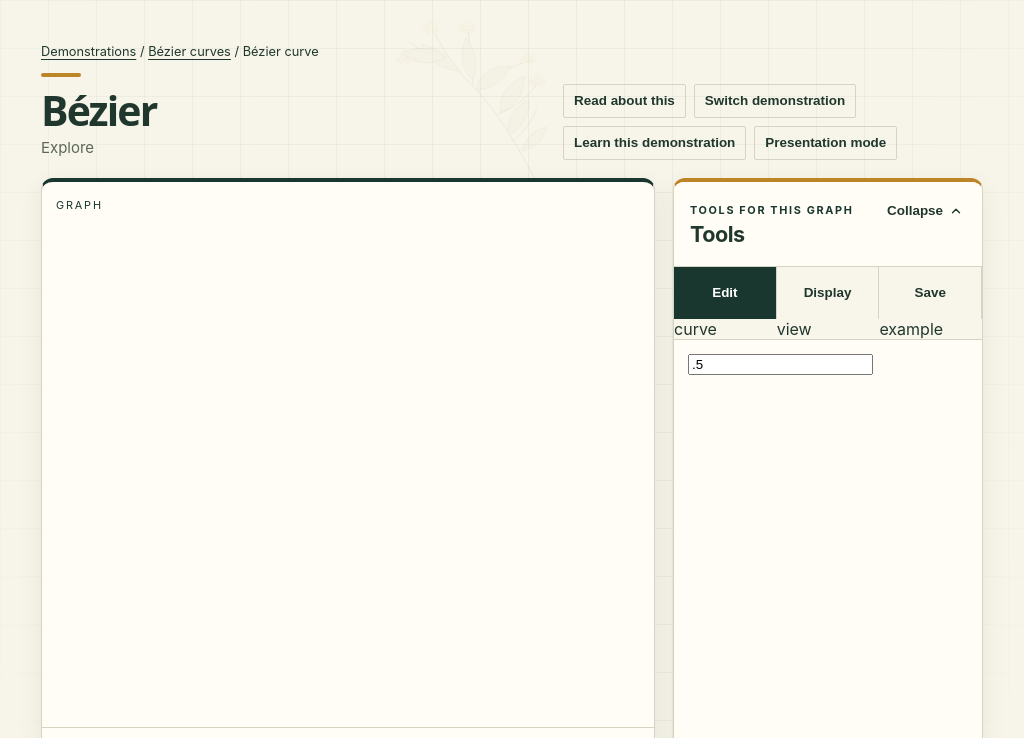
Test case: minimized lesson exposes one focused reopen tab over the graph
Step 1. Click the button "Learn this demonstration" → (655, 143), box top-left (563, 126), bottom-right (746, 160)
(page scrolled)
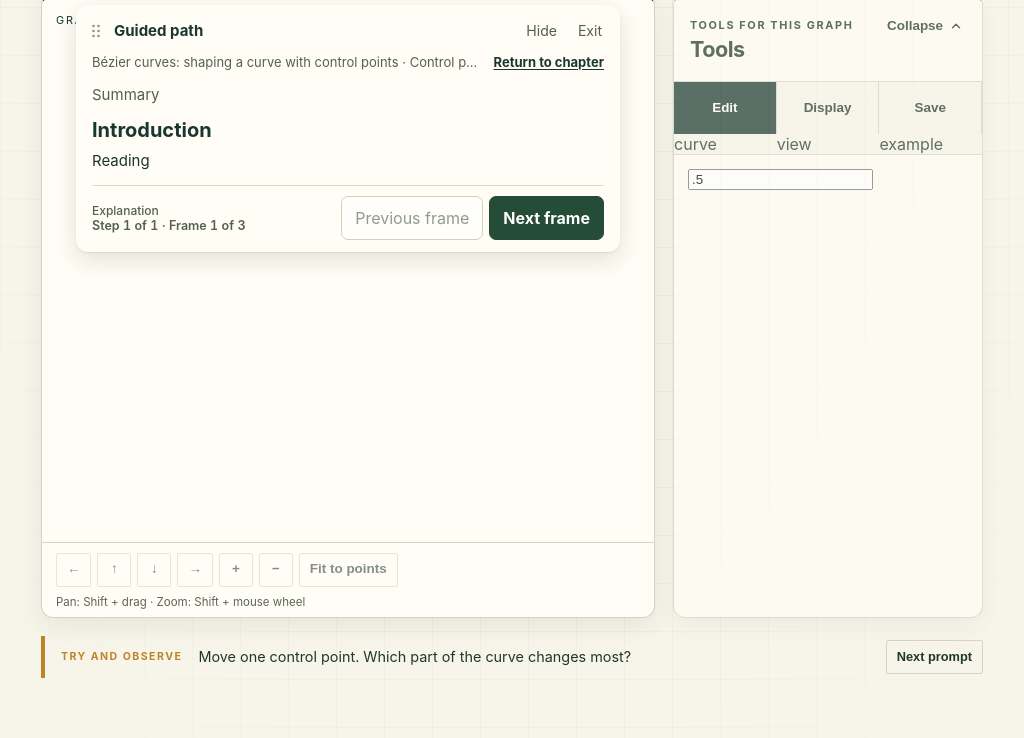
Expected: the heading "Introduction" is shown, top-left (92, 118), bottom-right (212, 142)
Step 2. Click the button "Next frame" → (547, 218), box top-left (489, 196), bottom-right (604, 240)
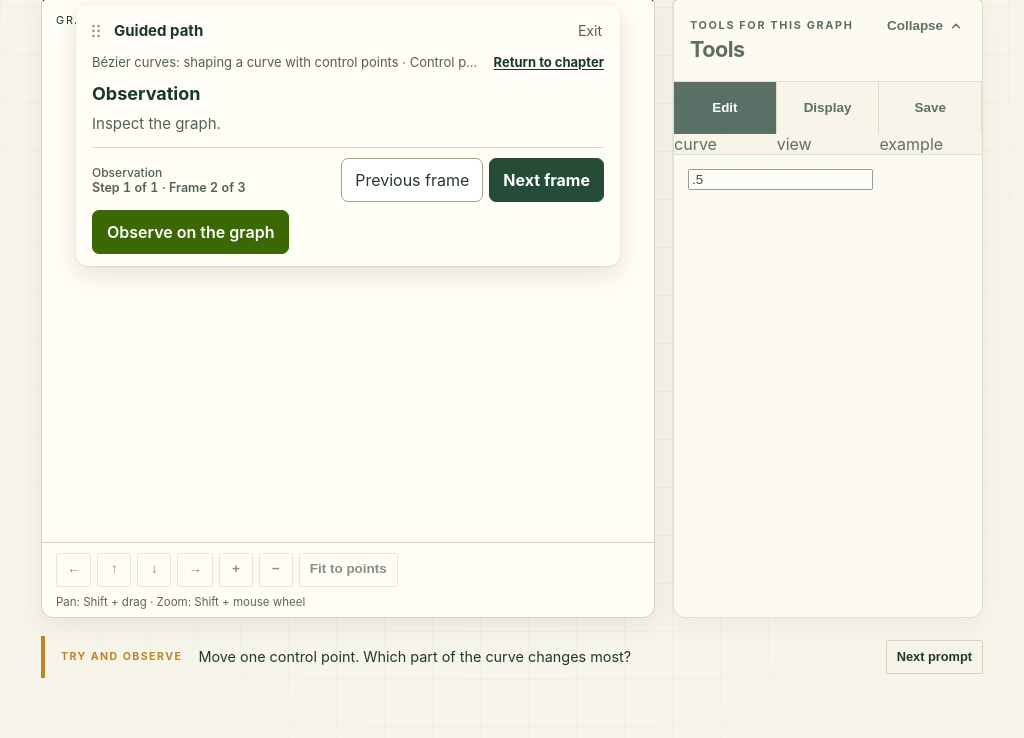
Step 3. Click the button "Observe on the graph" → (191, 232), box top-left (92, 210), bottom-right (289, 254)
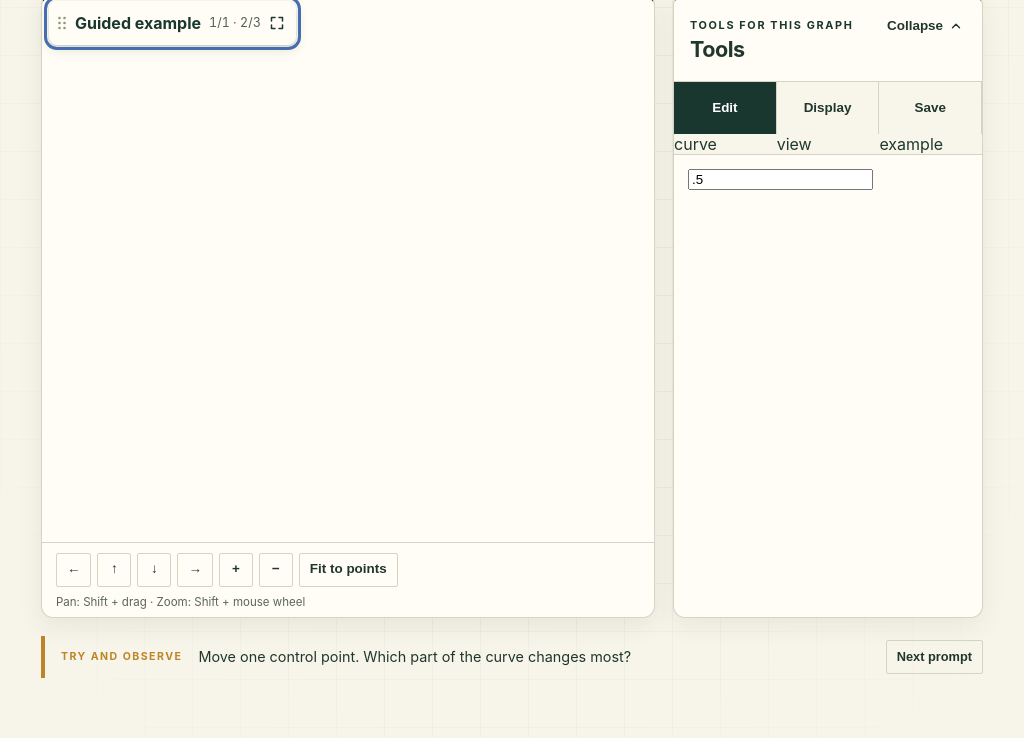
Expected: the element with class "guided-lesson" is gone
Step 4. Click the button "Guided example 1/1 · 2/3" → (172, 23), box top-left (49, 1), bottom-right (296, 45)
(page scrolled)
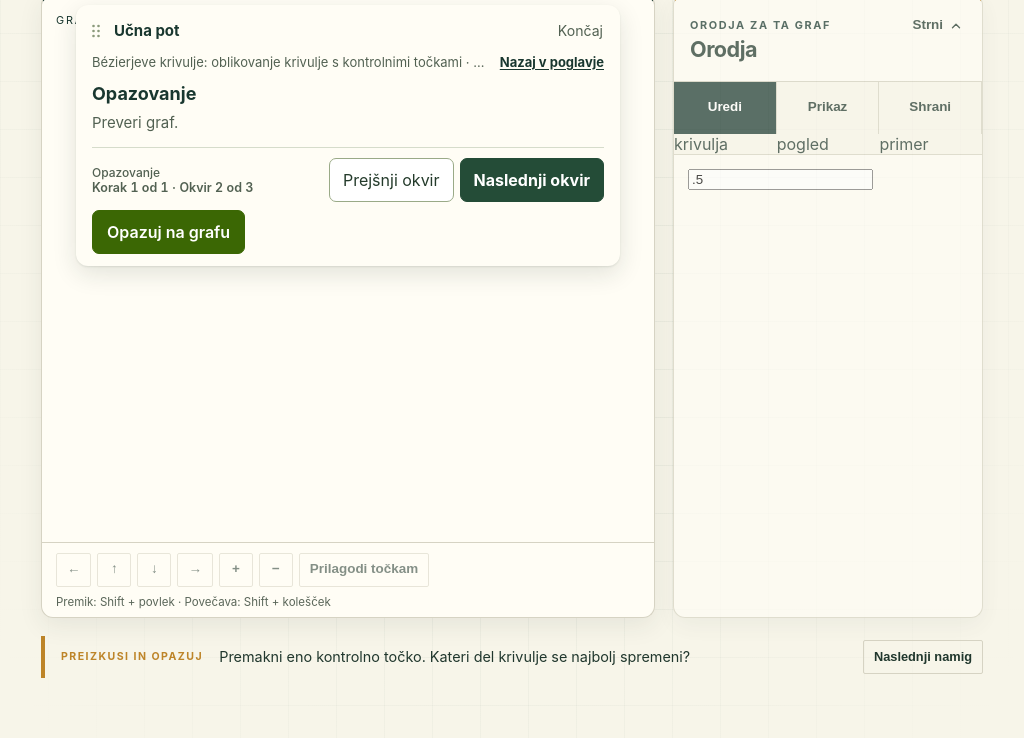
Expected: the 1st text "Observation" is shown, top-left (92, 83), bottom-right (196, 104)
Expected: the button with class "guided-lesson-nav-next" is shown, top-left (460, 158), bottom-right (604, 202)
